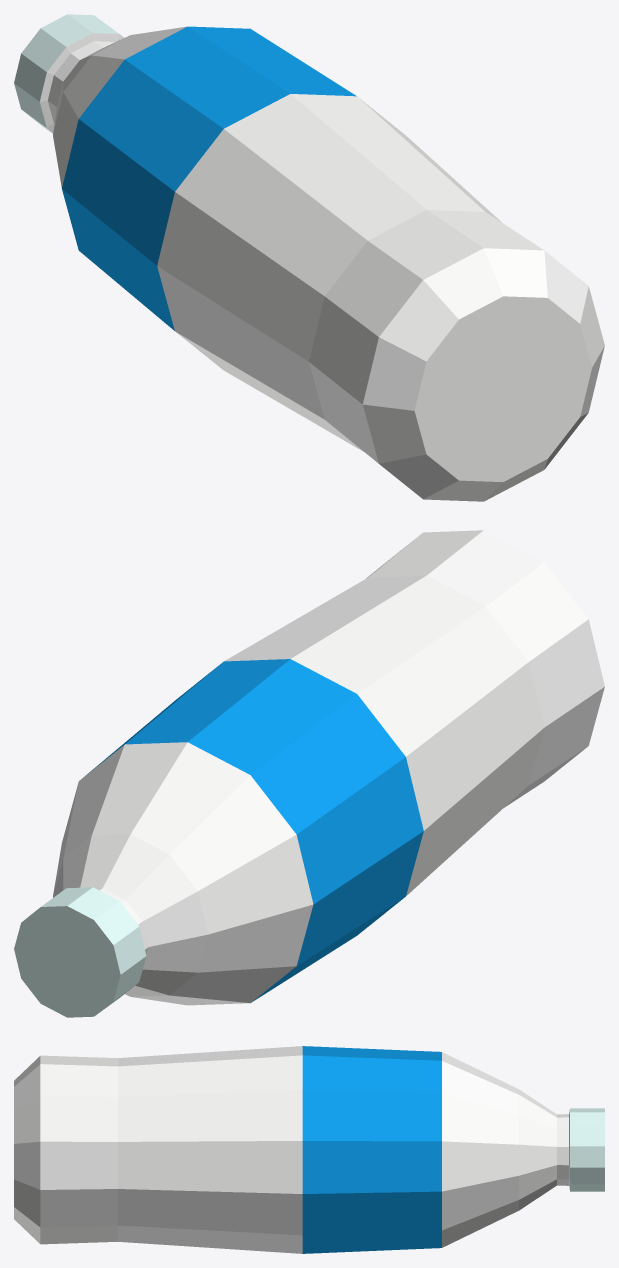
The model's file is Water Bottle.fbx.
3 renders of one model, top to bottom at view 1: azimuth 30°, elevation 25°; view 2: azimuth 150°, elevation 25°; view 3: azimuth 270°, elevation 25°, orthographic. The views are drawn at different scales.
Visible parts, largest first — view 1: Water Bottle; view 2: Water Bottle; view 3: Water Bottle.
Part boxes in pixels (left/top/right/bottom): Water Bottle: left=14, top=14, right=604, bottom=501; Water Bottle: left=14, top=530, right=604, bottom=1017; Water Bottle: left=14, top=1046, right=604, bottom=1253.
Size of the model in its own units: 25.71 by 25.71 by 72.8.
